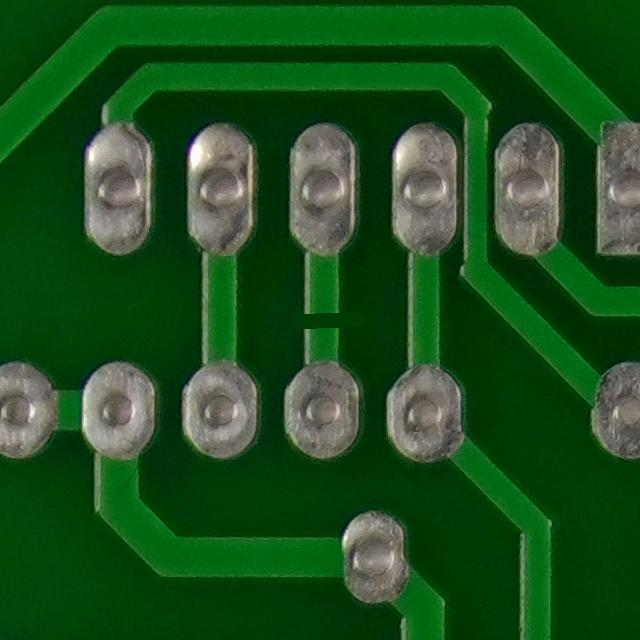open_circuit: (292, 297, 348, 343)
